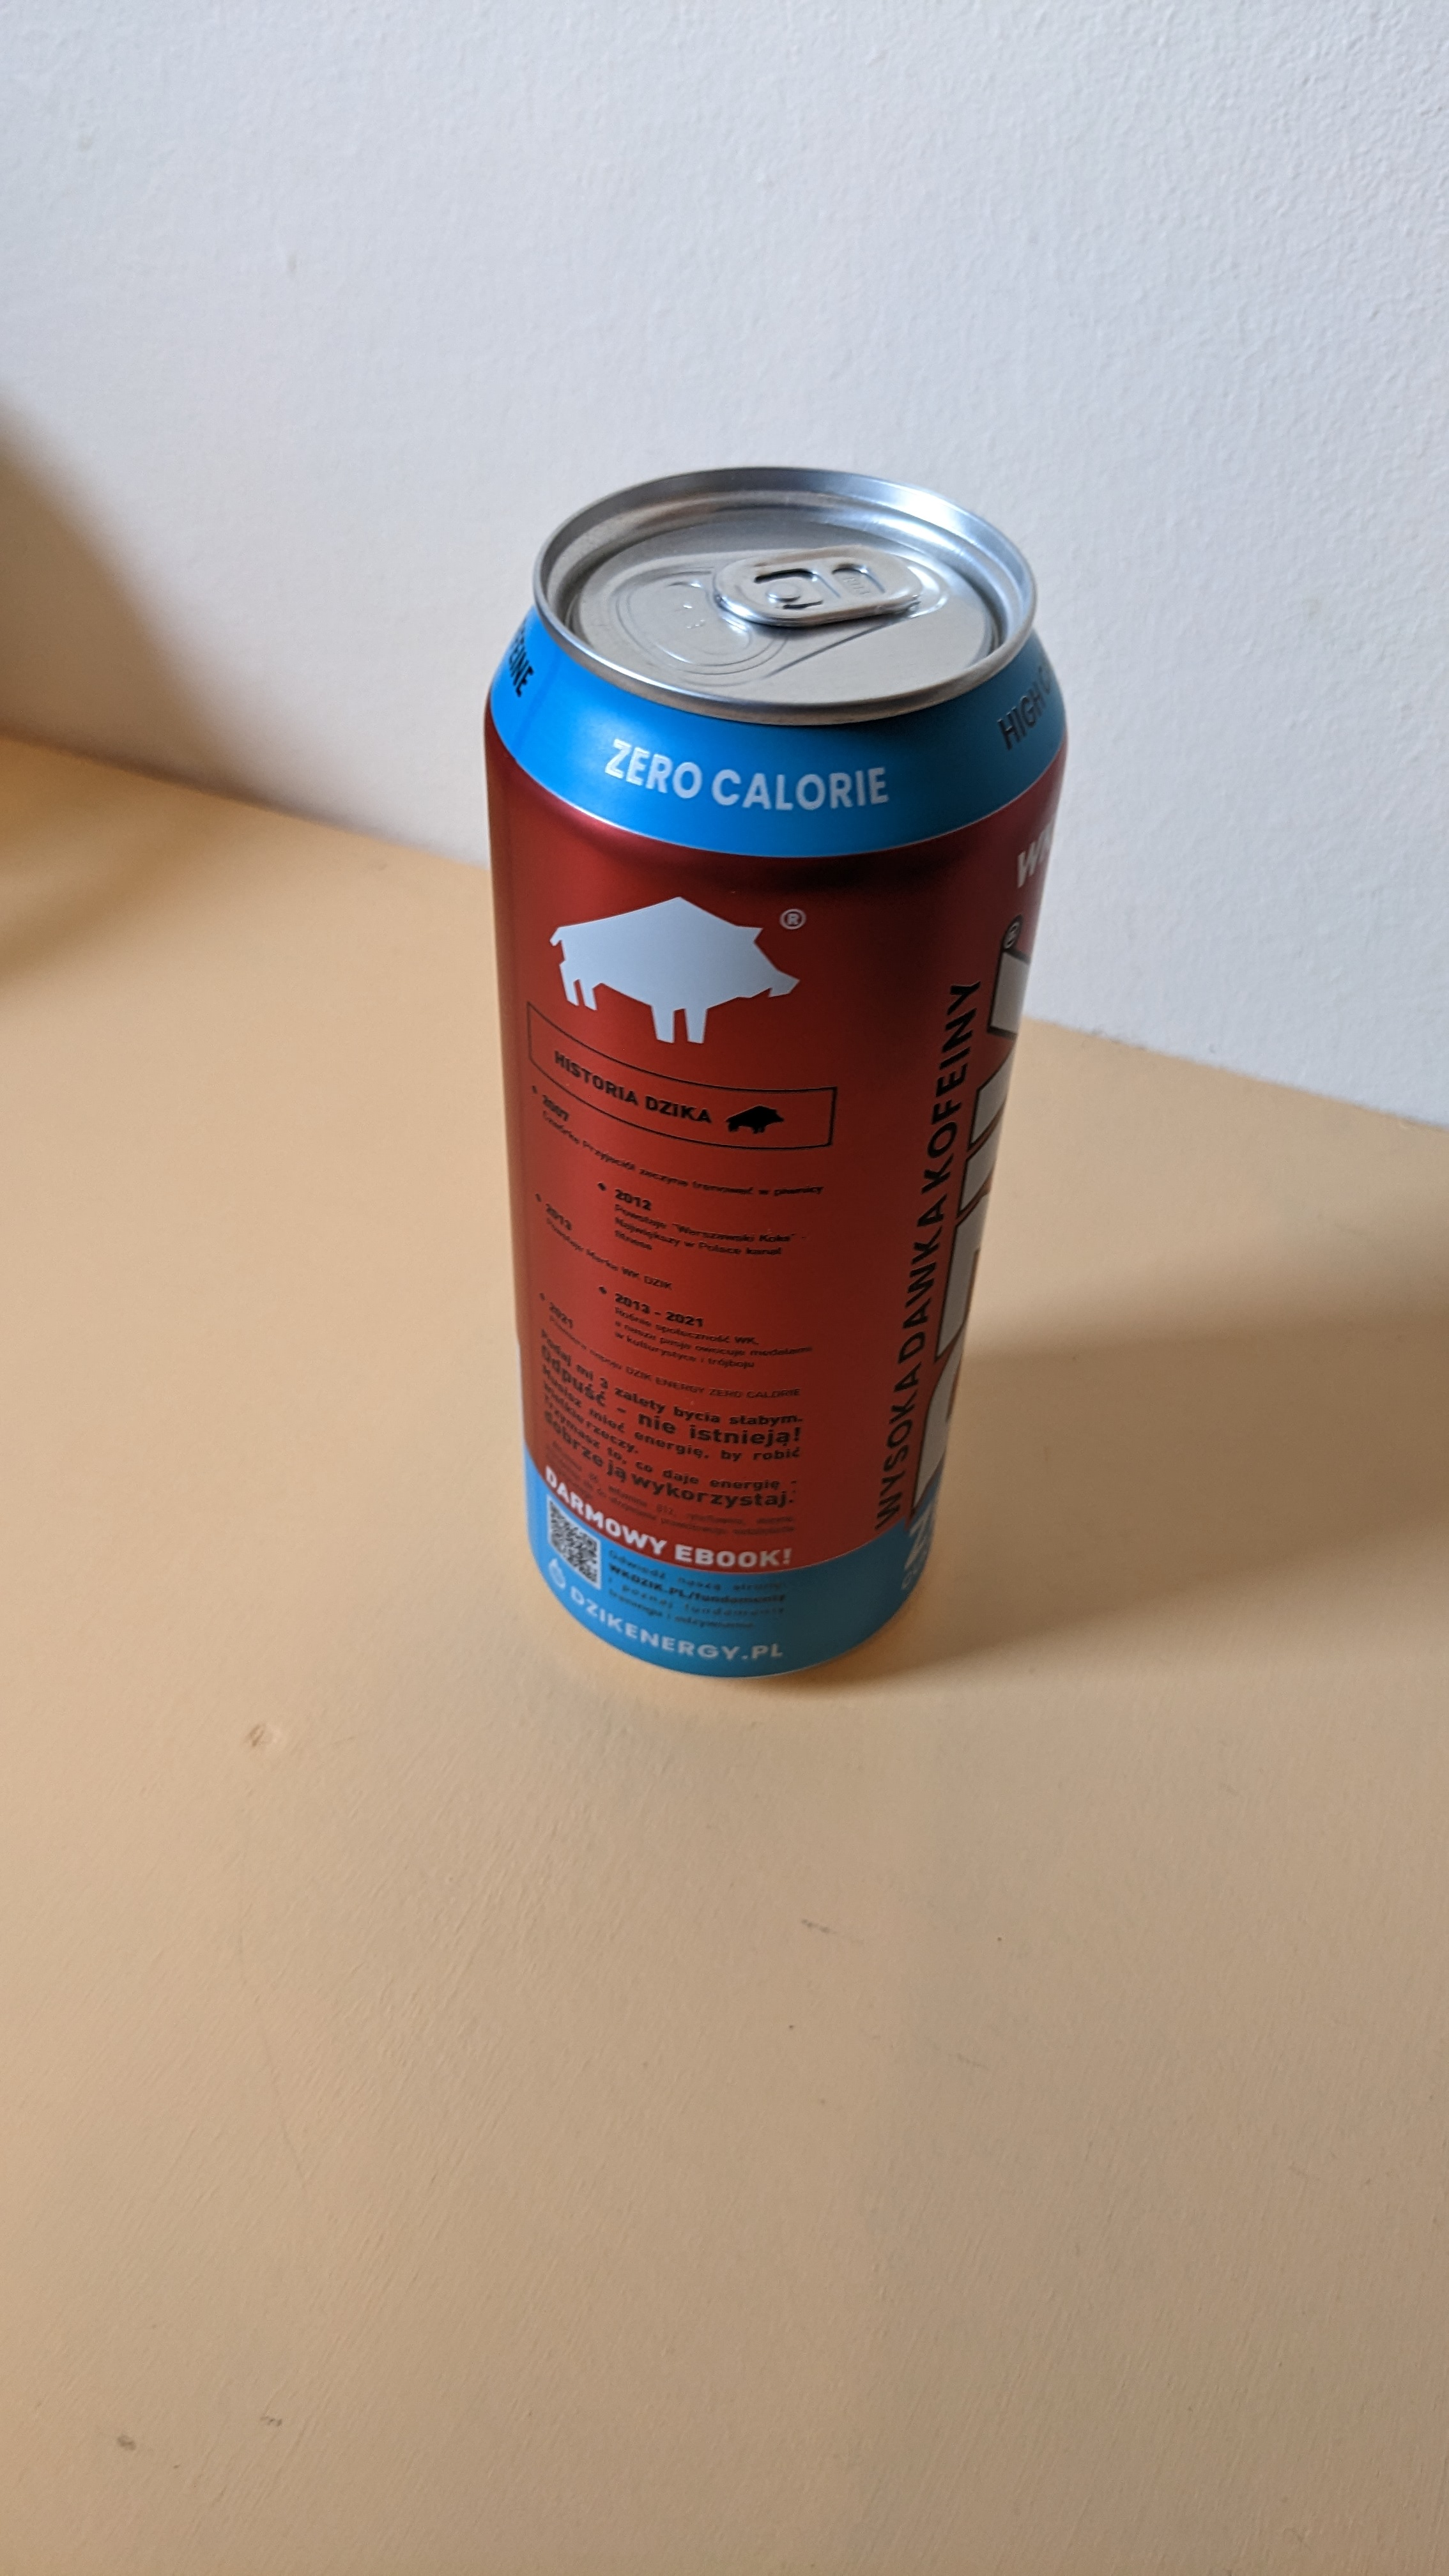dzik: (458, 449, 1023, 1695)
